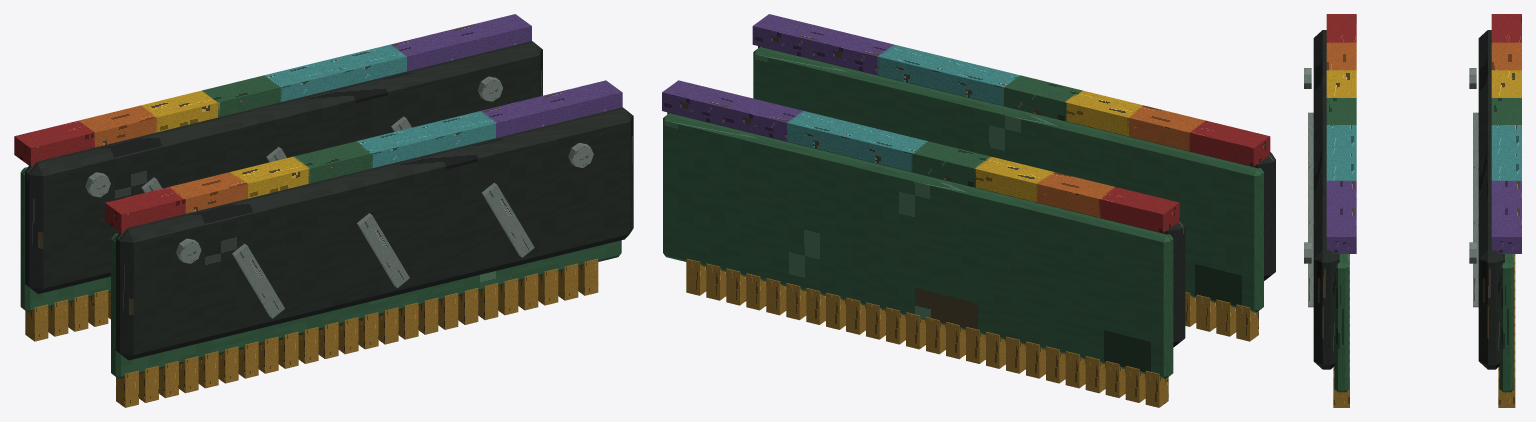
File: ram_pair.glb
3 renders of one model, left to right at view 1: azimuth 30°, elevation 25°; view 2: azimuth 150°, elevation 25°; view 3: azimuth 270°, elevation 25°, orthographic. The views are drawn at different scales.
Visible parts, largest first — view 1: ram_pair; view 2: ram_pair; view 3: ram_pair.
Part boxes in pixels (x1=…): ram_pair: x1=14, y1=14, x2=633, y2=407; ram_pair: x1=662, y1=14, x2=1275, y2=407; ram_pair: x1=1304, y1=14, x2=1521, y2=407.
Bounding box in the file's own units: 0.144 × 0.053 × 0.058.
Materials: 9 (9 with a texture image).
